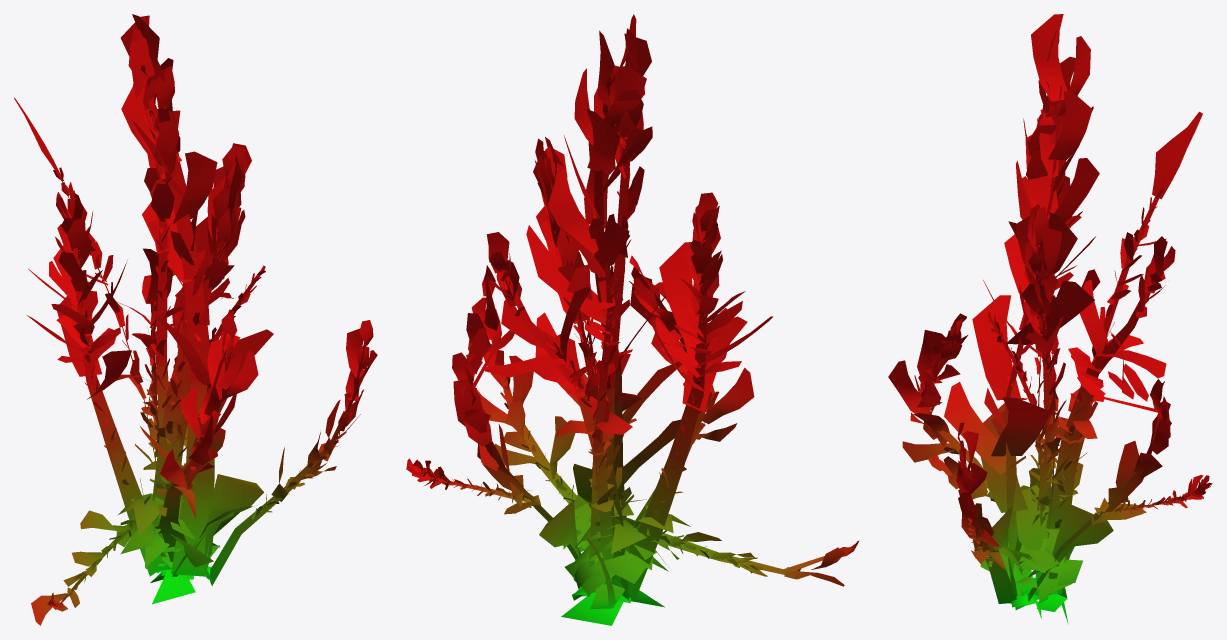
Rendered from Myricaria_LOD1_Var1_tfbldaor.fbx.
3 renders of one model, left to right at view 1: azimuth 30°, elevation 25°; view 2: azimuth 150°, elevation 25°; view 3: azimuth 270°, elevation 25°, orthographic. The views are drawn at different scales.
Visible parts, largest first — view 1: _a370_Var1_LOD1; view 2: _a370_Var1_LOD1; view 3: _a370_Var1_LOD1.
Part boxes in pixels (x1,y1,x2,y2): _a370_Var1_LOD1: [14, 14, 377, 625]; _a370_Var1_LOD1: [406, 14, 859, 625]; _a370_Var1_LOD1: [888, 14, 1212, 624].
Size of the model in its own units: 63.65 by 101 by 51.18.
